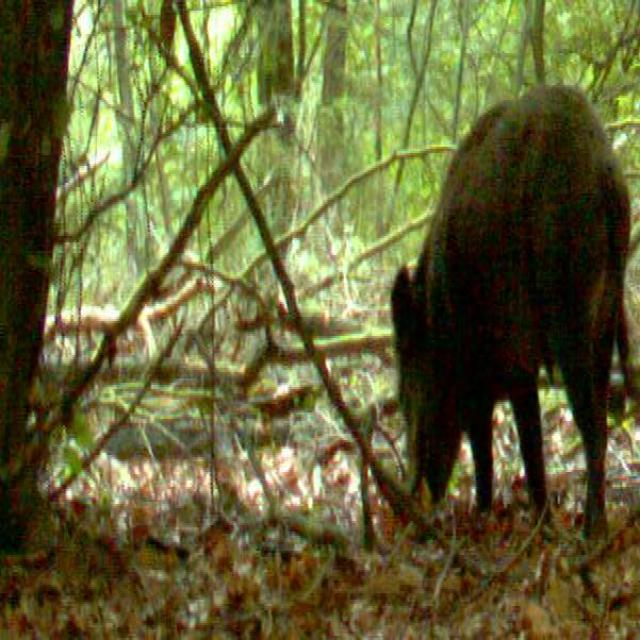pig: (343, 0, 640, 584)
